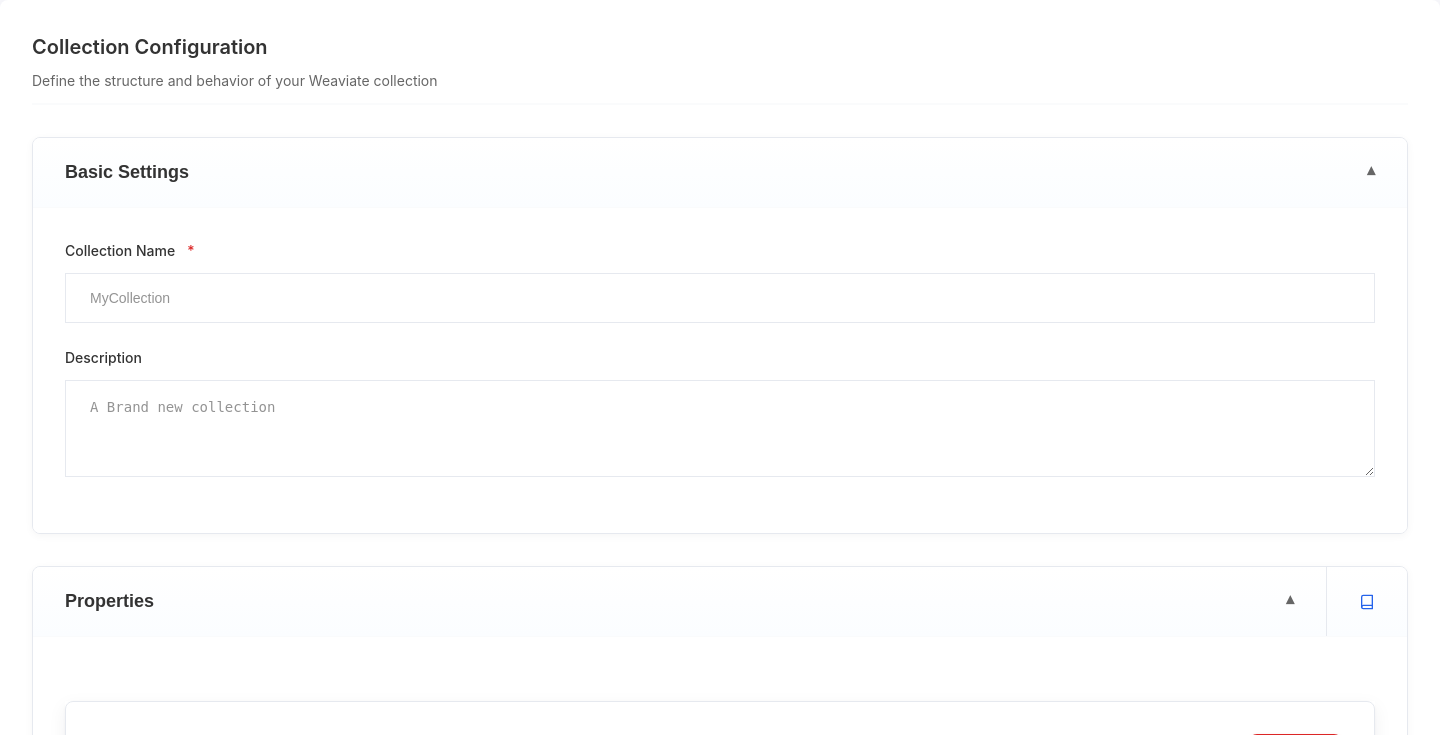
Scenario: Collection Name Validation › should accept valid names with underscores and numbers
Type "My_Collection_123" into the field labelled "Collection Name".
click(720, 298); type("My_Collection_123")  # box [65,273,1375,323]
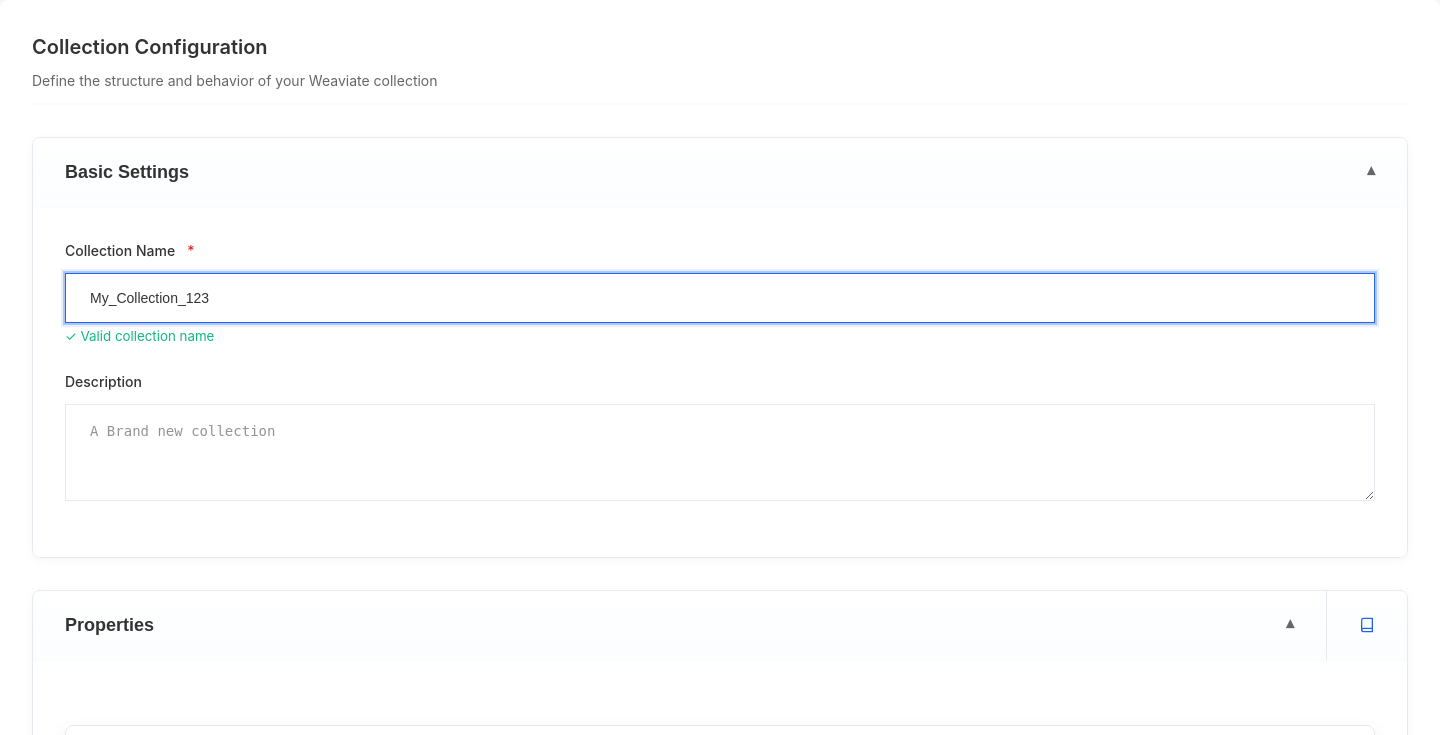
Result: the text "✓ Valid collection name" is shown at [65,328,214,344]
